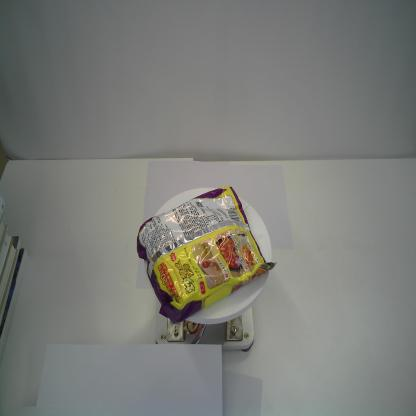Instant Noodles: (136, 185, 278, 325)
